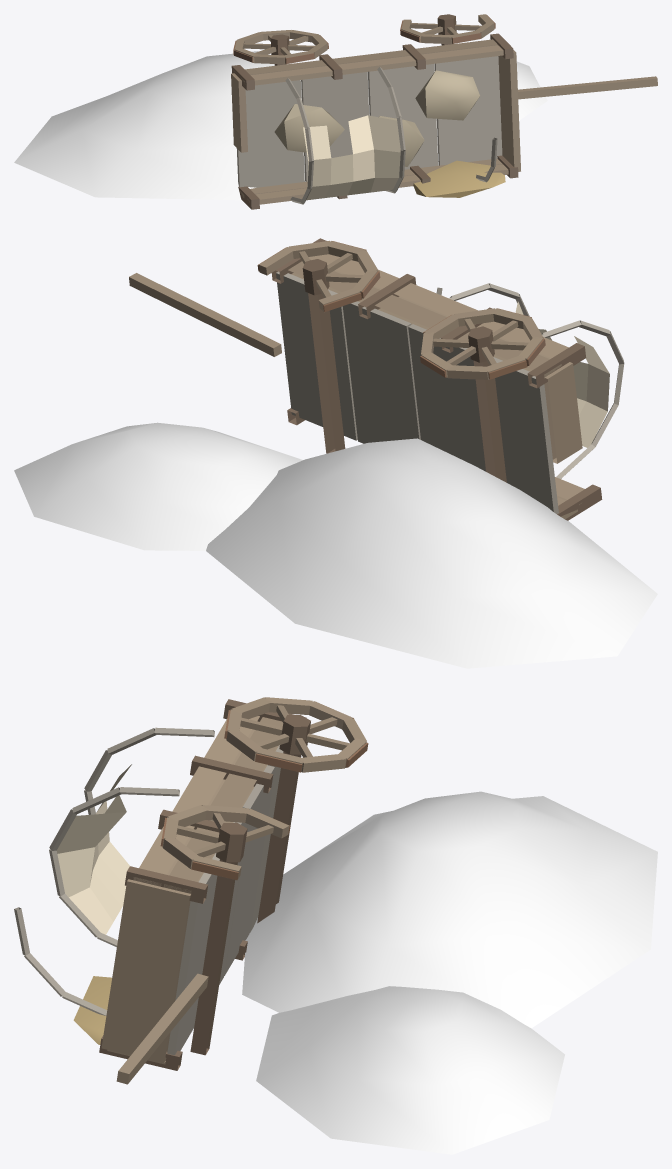
File: caravana_carro_ligero.glb
The picture shows the model from 3 angles, top to bottom: view 1: azimuth 30°, elevation 25°; view 2: azimuth 150°, elevation 25°; view 3: azimuth 270°, elevation 25°; orthographic projection. The views are drawn at different scales.
Parts seen in each view (by area): view 1: caravana_carro, caravana_carro_arena, caravana_carro_tela; view 2: caravana_carro_arena, caravana_carro, caravana_carro_tela; view 3: caravana_carro_arena, caravana_carro, caravana_carro_tela.
Part boxes in pixels (bbox=[...]): caravana_carro: bbox=[231, 14, 657, 209]; caravana_carro_arena: bbox=[14, 46, 547, 200]; caravana_carro_tela: bbox=[303, 115, 402, 200]; caravana_carro_arena: bbox=[14, 422, 657, 668]; caravana_carro: bbox=[129, 238, 624, 520]; caravana_carro_tela: bbox=[515, 301, 609, 447]; caravana_carro_arena: bbox=[242, 791, 657, 1154]; caravana_carro: bbox=[14, 697, 368, 1084]; caravana_carro_tela: bbox=[56, 764, 131, 934].
Bounding box in the file's own units: 6.73 × 1.91 × 4.9.
